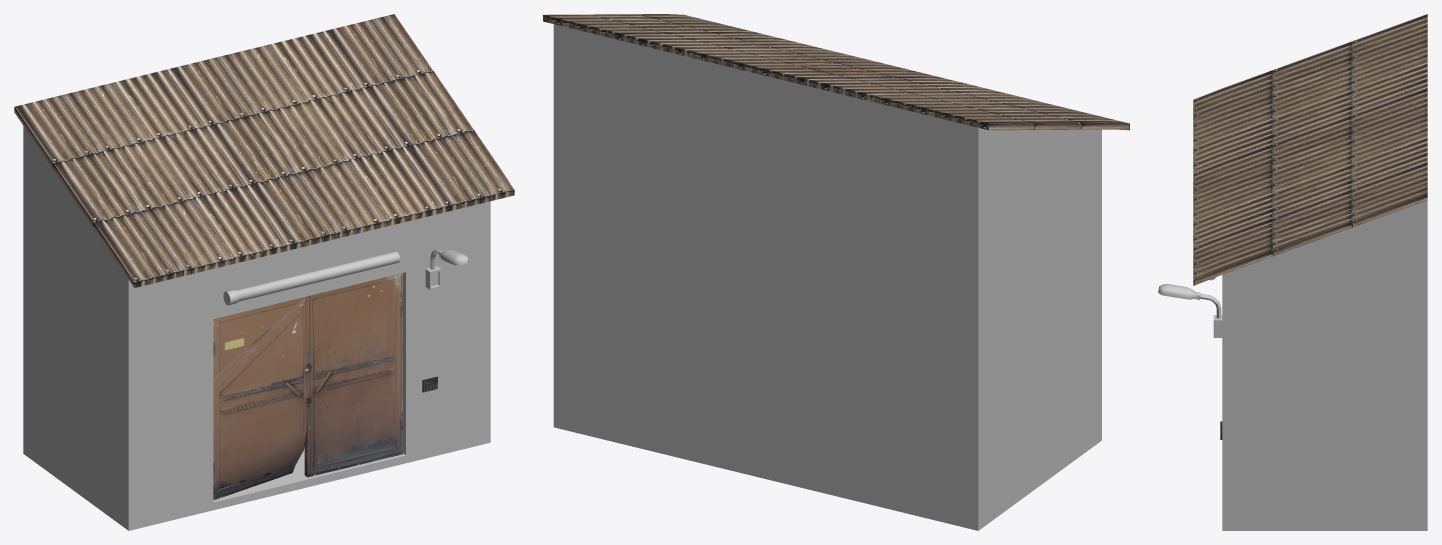
File: house_entrance03_lod1.fbx
3 views of the same model, side by side, from view 1: azimuth 30°, elevation 25°; view 2: azimuth 150°, elevation 25°; view 3: azimuth 270°, elevation 25° (orthographic). The views are drawn at different scales.
Visible parts, largest first — view 1: Mesh Object; view 2: Mesh Object; view 3: Mesh Object.
Boxes of the visible parts, box(x1,y1,x2,y2) form: Mesh Object: box(14, 14, 514, 530); Mesh Object: box(543, 14, 1129, 530); Mesh Object: box(1158, 14, 1427, 530).
Bounding box in the file's own units: 6.77 × 5.95 × 4.26.
